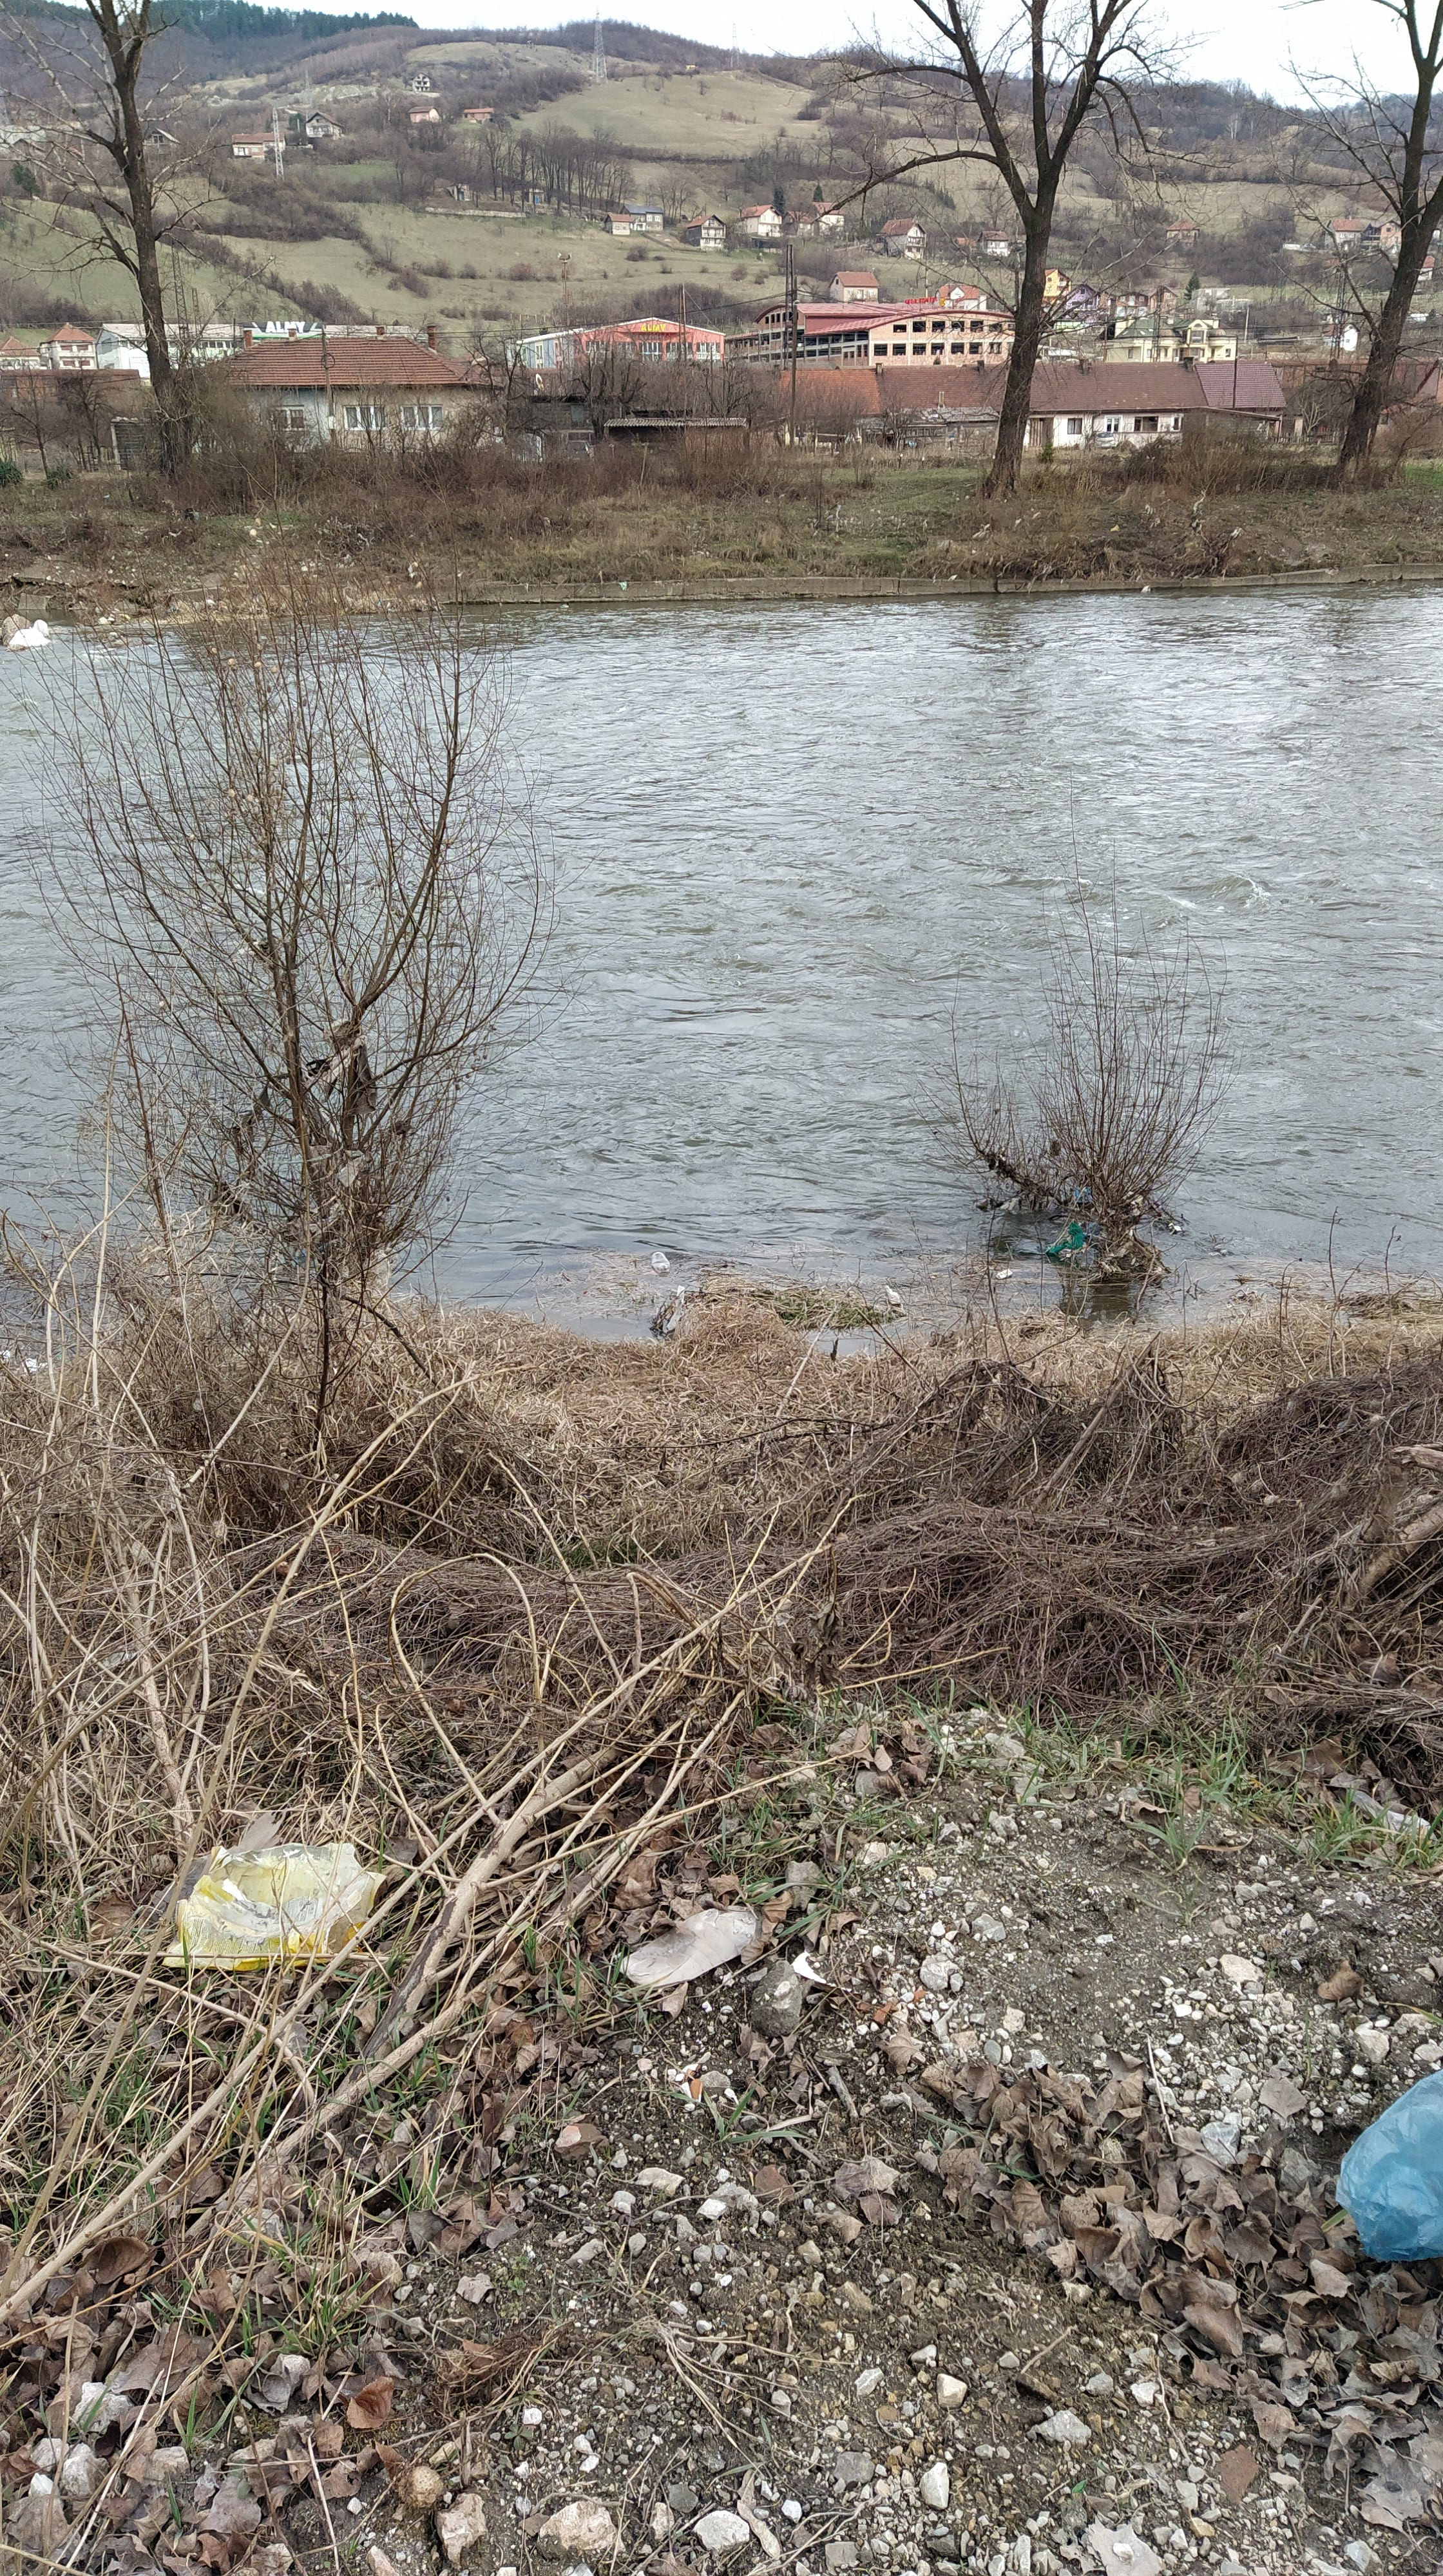Plastic Bottle: (650, 1251, 669, 1274), (561, 603, 568, 607)
